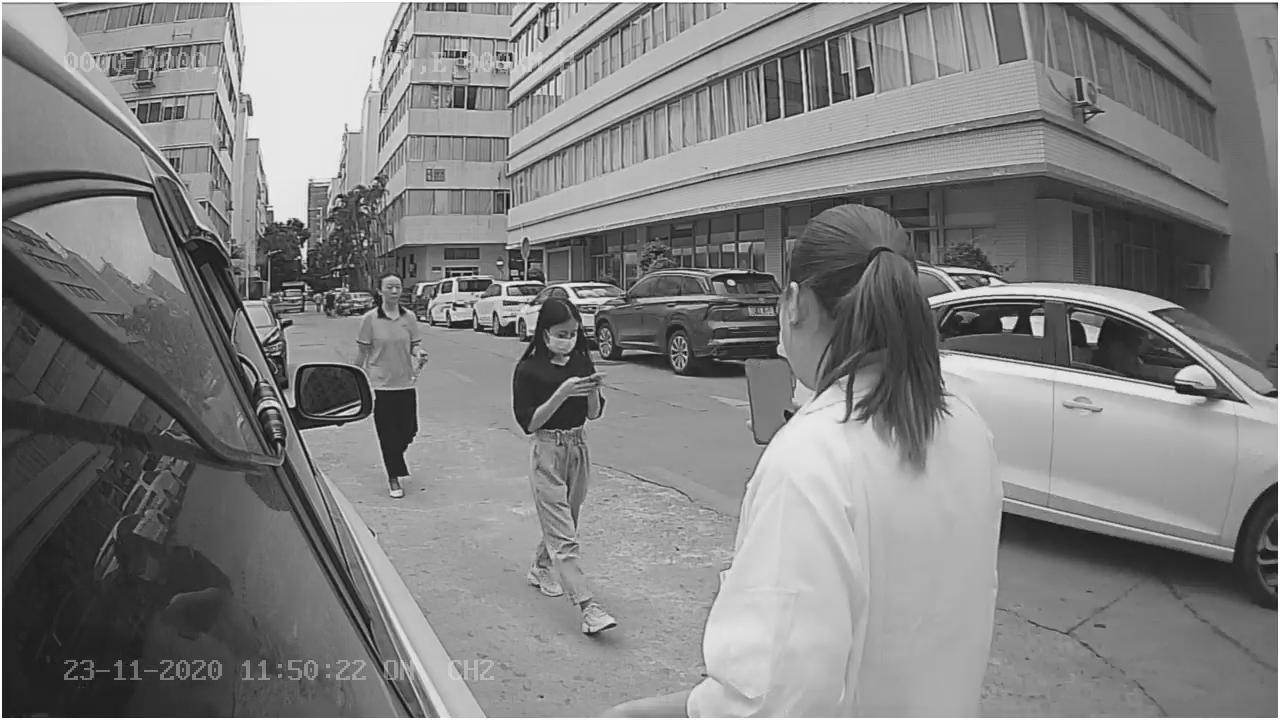person: (508, 287, 622, 632)
